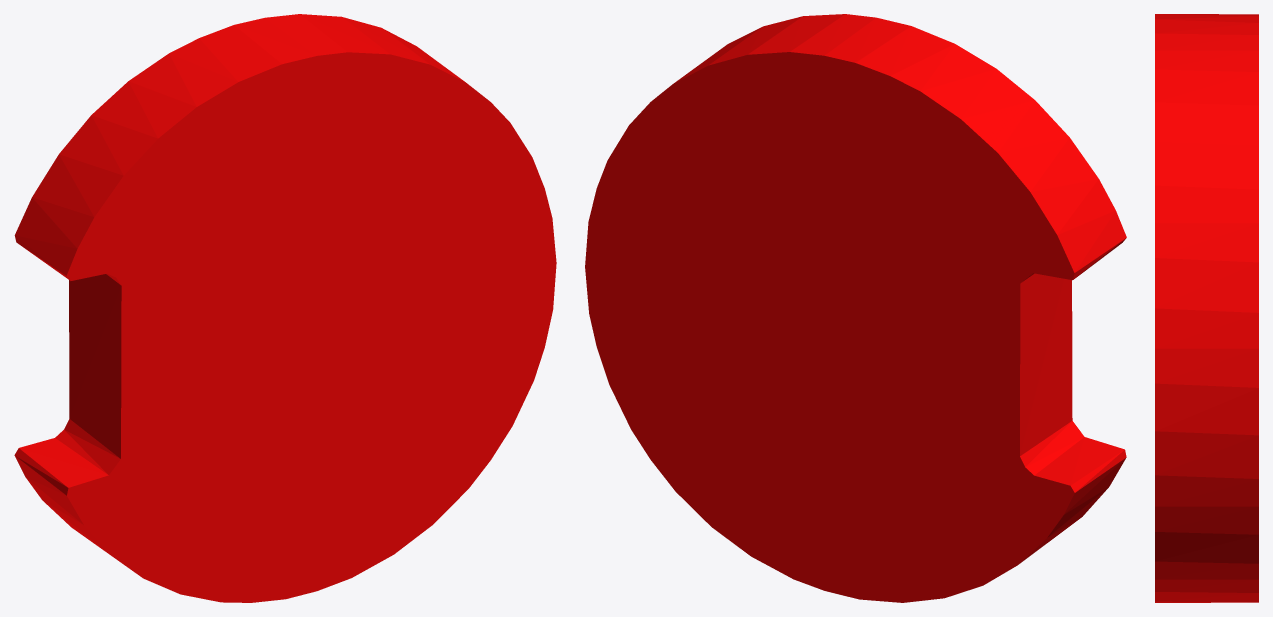
The model's file is legs_1_right_leg_1_x10_2_pcb_1.glb.
3 views of the same model, side by side, from view 1: azimuth 30°, elevation 25°; view 2: azimuth 150°, elevation 25°; view 3: azimuth 270°, elevation 25° (orthographic).
Parts seen in each view (by area): view 1: legs_1_right_leg_1_x10_2_pcb_1.obj; view 2: legs_1_right_leg_1_x10_2_pcb_1.obj; view 3: legs_1_right_leg_1_x10_2_pcb_1.obj.
Boxes of the visible parts, left/top/right/bottom form: legs_1_right_leg_1_x10_2_pcb_1.obj: left=14, top=14, right=556, bottom=602; legs_1_right_leg_1_x10_2_pcb_1.obj: left=585, top=14, right=1126, bottom=602; legs_1_right_leg_1_x10_2_pcb_1.obj: left=1155, top=14, right=1258, bottom=602.
Bounding box in the file's own units: 0.0679 × 0.071 × 0.0125.
